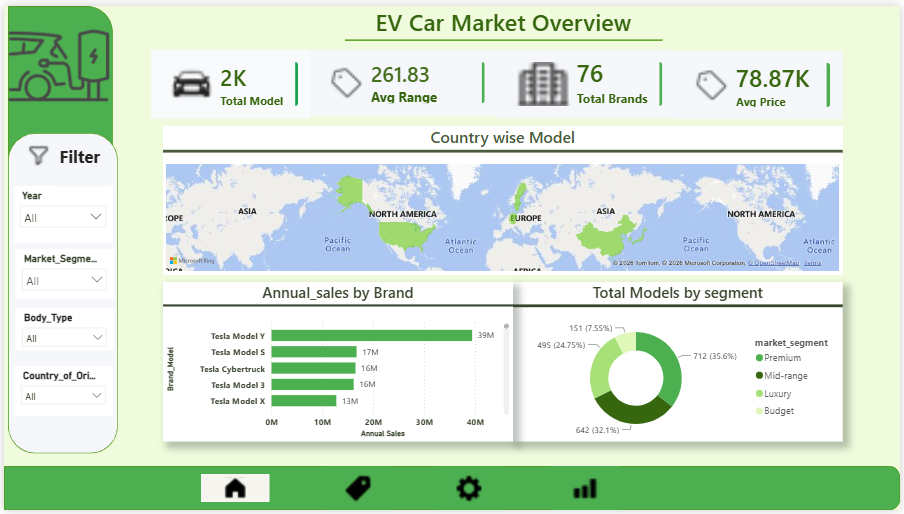

The dashboard page shown, as its layout file describes it:
{"tool":"powerbi","page":{"name":"Market Overview ","canvas":[1280,720],"ordinal":0},"visuals":[{"type":"shape","box":[0,656.6,1280.2,63.4],"z":0},{"type":"shape","box":[5.8,0,149.8,604.8],"z":1000},{"type":"shape","box":[5.8,181.4,157,457.9],"z":2000},{"type":"slicer","fields":{"Values":["ev_market_2026 (1).market_segment"]},"box":[15.8,347,141.1,72],"z":3000},{"type":"slicer","fields":{"Values":["ev_market_2026 (1).body_type"]},"box":[15.8,432,141.1,60.5],"z":4000},{"type":"slicer","fields":{"Values":["ev_market_2026 (1).year"]},"box":[13,257.8,142.6,82.1],"z":5000},{"type":"cardVisual","fields":{"Data":["ev_market_2026 (1).avg Range"]},"box":[435.8,63.2,268.3,94],"z":6000},{"type":"donutChart","title":"Total Models by segment","fields":{"Y":["ev_market_2026 (1).Total Model"],"Category":["ev_market_2026 (1).market_segment"]},"box":[727.2,394.6,470.9,227.5],"z":7000},{"type":"clusteredBarChart","title":" Annual_sales by Brand","fields":{"Category":["ev_market_2026 (1).Brand_Model"],"Y":["Sum(ev_market_2026 (1).annual_sales_units)"]},"box":[227.5,394.6,499.7,227.5],"z":8000},{"type":"slicer","fields":{"Values":["ev_market_2026 (1).country_of_origin"]},"box":[14.4,514.1,141.1,70.6],"z":9000},{"type":"actionButton","box":[24.5,181.4,50.4,64.8],"z":10000},{"type":"textbox","title":"EV Car Market Overview","box":[435.8,0,555.4,63.2],"z":11000},{"type":"cardVisual","fields":{"Data":["ev_market_2026 (1).Total Brands"]},"box":[701.3,63.4,256.3,97.4],"z":12000},{"type":"cardVisual","fields":{"Data":["ev_market_2026 (1).Avg Price"]},"box":[957.6,64.8,241,97.4],"z":13000},{"type":"textbox","box":[74.9,193,70.6,64.8],"z":14000},{"type":"cardVisual","fields":{"Data":["ev_market_2026 (1).Total Model"]},"box":[210.2,63.4,227.1,97.7],"z":15000},{"type":"actionButton","box":[0,0,157,171.4],"z":16000},{"type":"actionButton","box":[280.8,668.2,97.9,40.3],"z":17000},{"type":"actionButton","box":[455,656.6,99.4,63.4],"z":18000},{"type":"actionButton","box":[780.5,656.6,99.4,63.4],"z":19000},{"type":"actionButton","box":[614.9,656.6,99.4,63.4],"z":20000},{"type":"filledMap","title":"Country wise Model","fields":{"Category":["ev_market_2026 (1).country_of_origin"],"Y":["Min(ev_market_2026 (1).Brand_Model)"]},"box":[227.5,171.4,970.6,211.7],"z":21000},{"type":"shape","box":[486.7,21.6,453.6,54.7],"z":22000}]}

Visuals, with their boxes in screenshot pixels (x1, y1, x2, y2), scaled from the page's 1280x720 canvas onto the 904x514 screenshot:
shape: 0, 469, 903, 513
shape: 4, 0, 110, 432
shape: 4, 129, 115, 456
slicer - ev_market_2026 (1).market_segment: 11, 248, 111, 299
slicer - ev_market_2026 (1).body_type: 11, 308, 111, 352
slicer - ev_market_2026 (1).year: 9, 184, 110, 243
cardVisual - ev_market_2026 (1).avg Range: 308, 45, 497, 112
"Total Models by segment" donutChart: 514, 282, 846, 444
" Annual_sales by Brand" clusteredBarChart: 161, 282, 514, 444
slicer - ev_market_2026 (1).country_of_origin: 10, 367, 110, 417
actionButton: 17, 129, 53, 176
"EV Car Market Overview" textbox: 308, 0, 700, 45
cardVisual - ev_market_2026 (1).Total Brands: 495, 45, 676, 115
cardVisual - ev_market_2026 (1).Avg Price: 676, 46, 847, 116
textbox: 53, 138, 103, 184
cardVisual - ev_market_2026 (1).Total Model: 148, 45, 309, 115
actionButton: 0, 0, 111, 122
actionButton: 198, 477, 267, 506
actionButton: 321, 469, 392, 513
actionButton: 551, 469, 621, 513
actionButton: 434, 469, 504, 513
"Country wise Model" filledMap: 161, 122, 846, 273
shape: 344, 15, 664, 54
